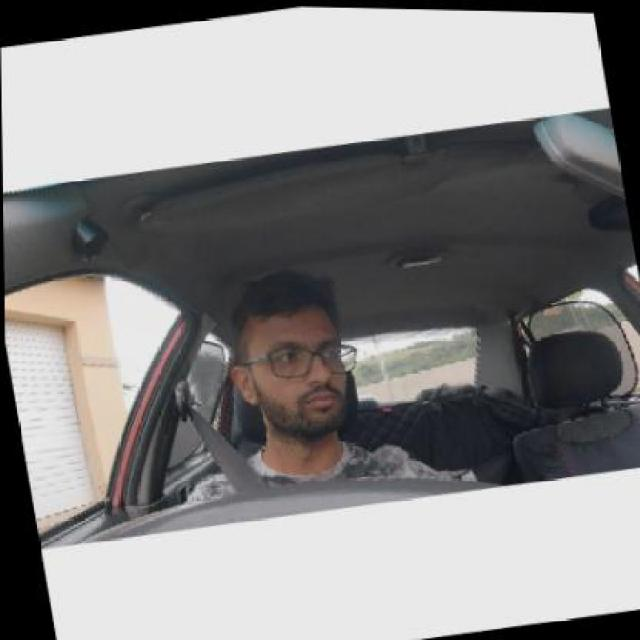person: (216, 273, 366, 454)
